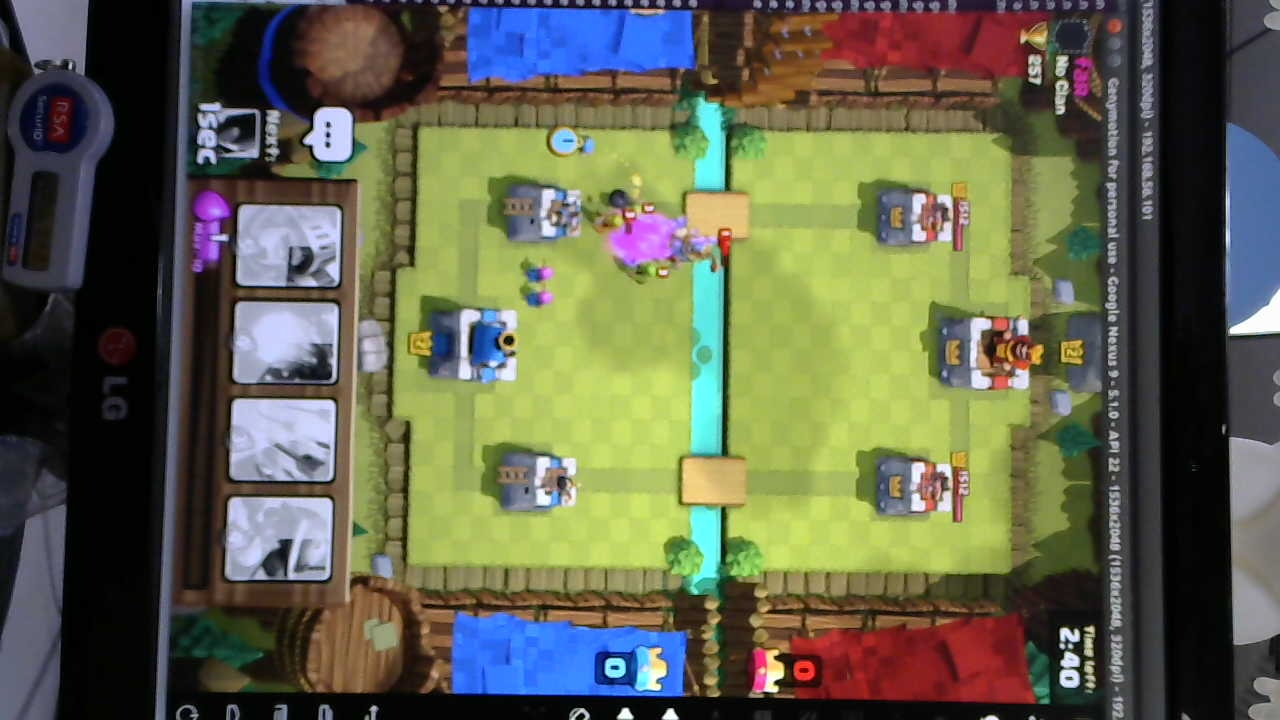arena: (498, 450, 580, 513), (505, 185, 583, 245)
bomb: (571, 127, 604, 164)
earena: (876, 188, 958, 249), (875, 460, 953, 517)
eking: (934, 310, 1037, 392)
king: (428, 299, 521, 384)
prince: (660, 227, 719, 271)
